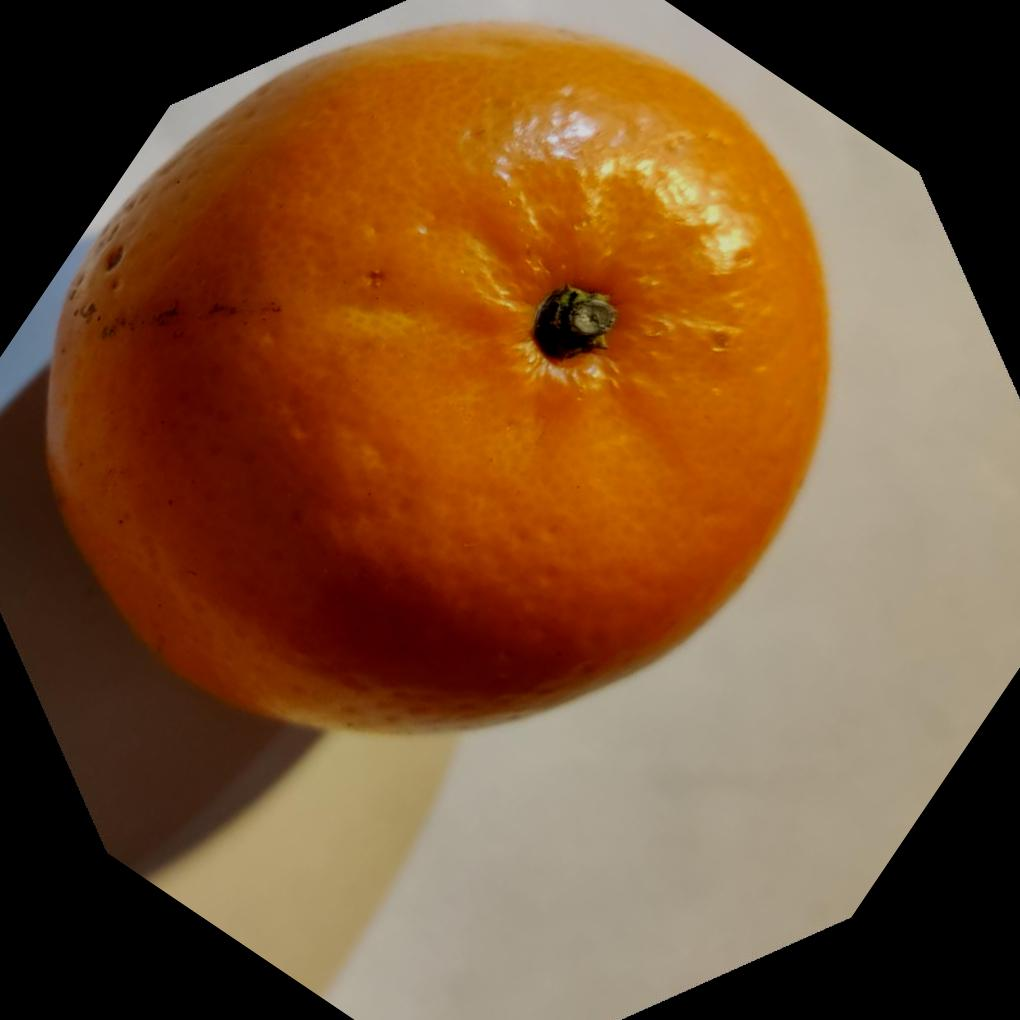FreshGuava: (43, 17, 833, 736)
